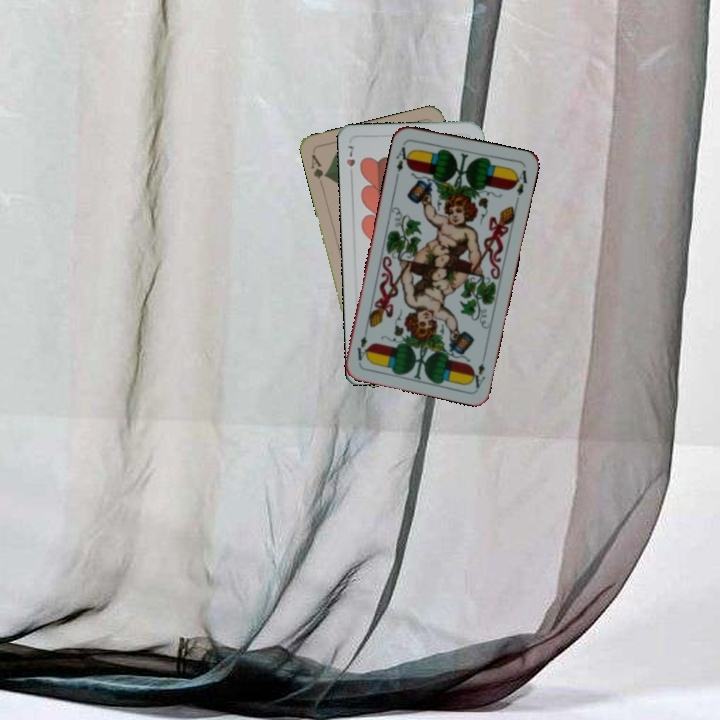EA: (467, 350, 489, 390), (392, 143, 413, 180)
GA: (307, 150, 330, 182)
H7: (342, 141, 358, 180)
